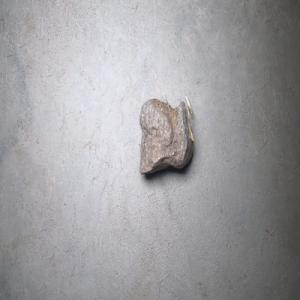Rock: (137, 95, 194, 175)
